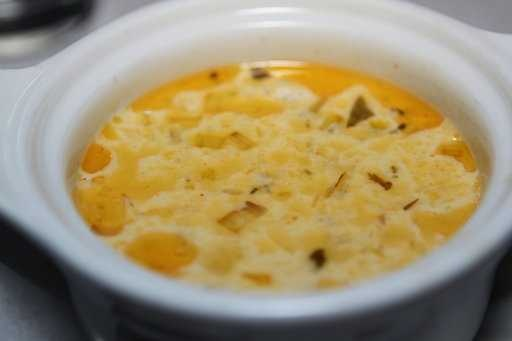soup: (73, 26, 488, 277)
